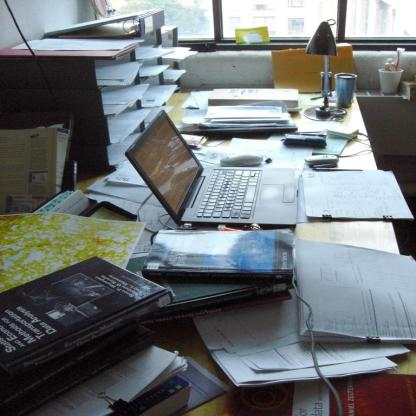board: (127, 109, 298, 233), (334, 72, 358, 108)
